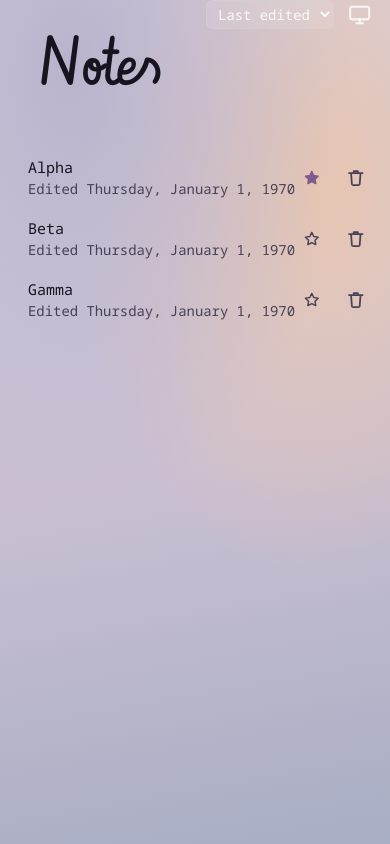
Test: deleting from a row asks first › names the note in the question, so the wrong row is obvious
What coordinates should you click on to do the following:
click the button named "Move Gamma to Trash"
I would click on:
 (356, 300)
Its box is left=338, top=282, right=374, bottom=318.
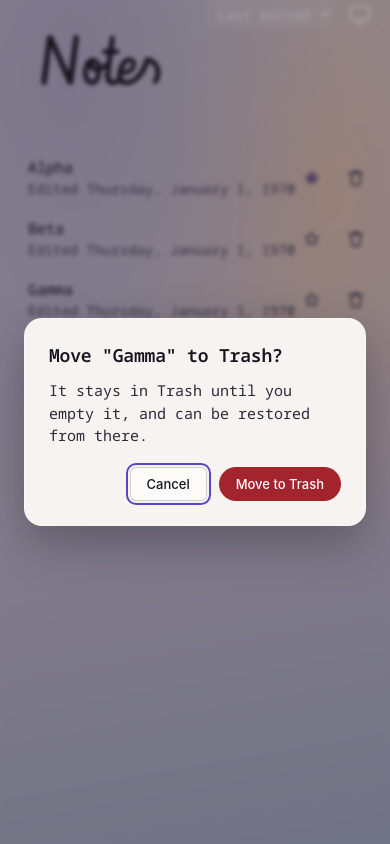
Now the dialog "Gamma" is shown, box left=24, top=318, right=366, bottom=526
